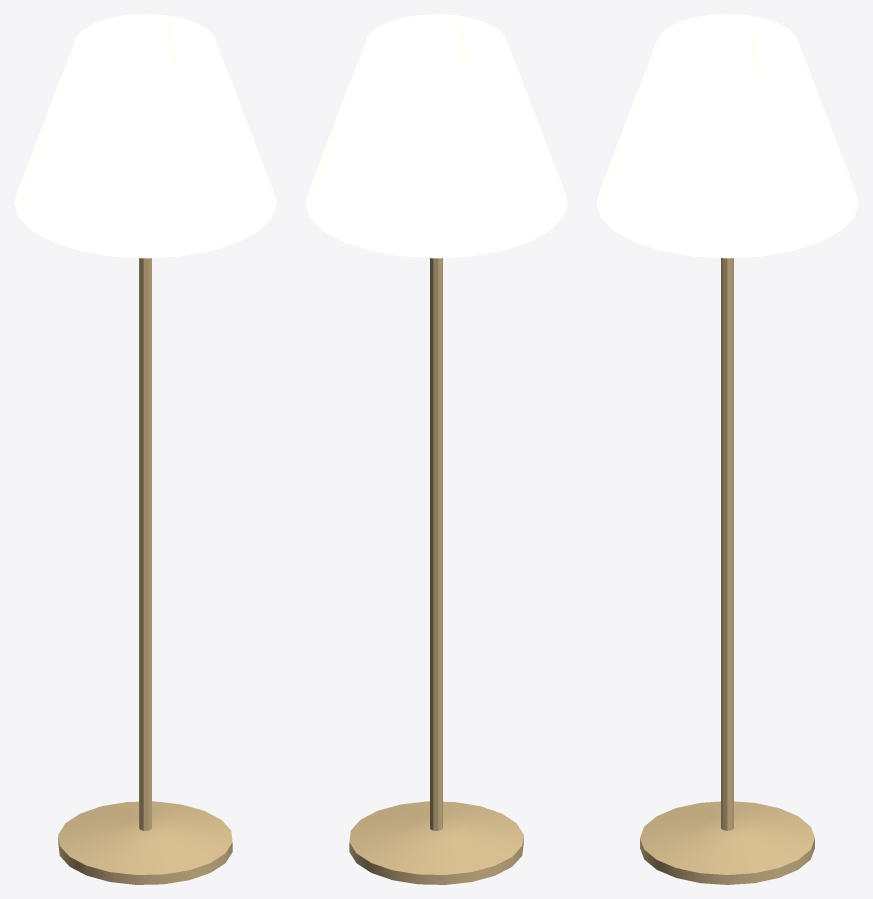
The model's file is SM_FloorLamp.fbx.
The picture shows the model from 3 angles, left to right: view 1: azimuth 30°, elevation 25°; view 2: azimuth 150°, elevation 25°; view 3: azimuth 270°, elevation 25°; orthographic projection.
Visible parts, largest first — view 1: SM_FloorLamp_1; view 2: SM_FloorLamp_1; view 3: SM_FloorLamp_1.
Part boxes in pixels (bbox=[...]): SM_FloorLamp_1: bbox=[14, 14, 276, 884]; SM_FloorLamp_1: bbox=[305, 14, 567, 884]; SM_FloorLamp_1: bbox=[596, 14, 858, 884].
Size of the model in its own units: 48 by 162 by 48.
